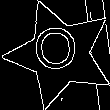O_S: (36, 27, 83, 81)
